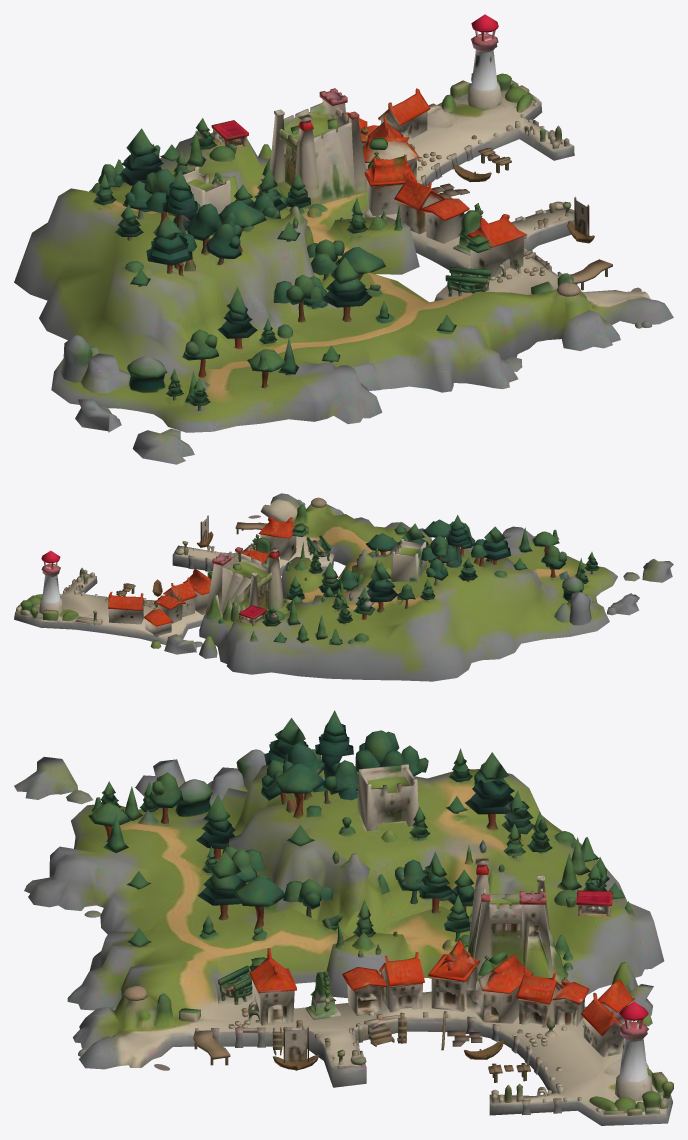
File: isle_05.glb
The picture shows the model from 3 angles, top to bottom: view 1: azimuth 30°, elevation 25°; view 2: azimuth 150°, elevation 25°; view 3: azimuth 270°, elevation 25°; orthographic projection. The views are drawn at different scales.
Visible parts, largest first — view 1: tripo_node_2bb134fd-9a1e-48b8-a786-9c7420482be0; view 2: tripo_node_2bb134fd-9a1e-48b8-a786-9c7420482be0; view 3: tripo_node_2bb134fd-9a1e-48b8-a786-9c7420482be0.
Boxes of the visible parts, x1,y1,x2,y2 form: tripo_node_2bb134fd-9a1e-48b8-a786-9c7420482be0: [14, 14, 673, 464]; tripo_node_2bb134fd-9a1e-48b8-a786-9c7420482be0: [14, 493, 673, 681]; tripo_node_2bb134fd-9a1e-48b8-a786-9c7420482be0: [14, 710, 673, 1125].
Size of the model in its own units: 142 by 35.71 by 115.
Materials: 1 (1 with a texture image).
